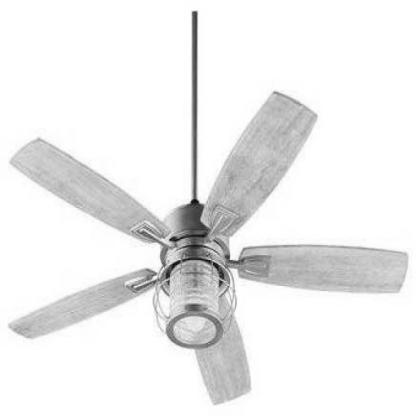ceiling-fan: (8, 89, 408, 404)
